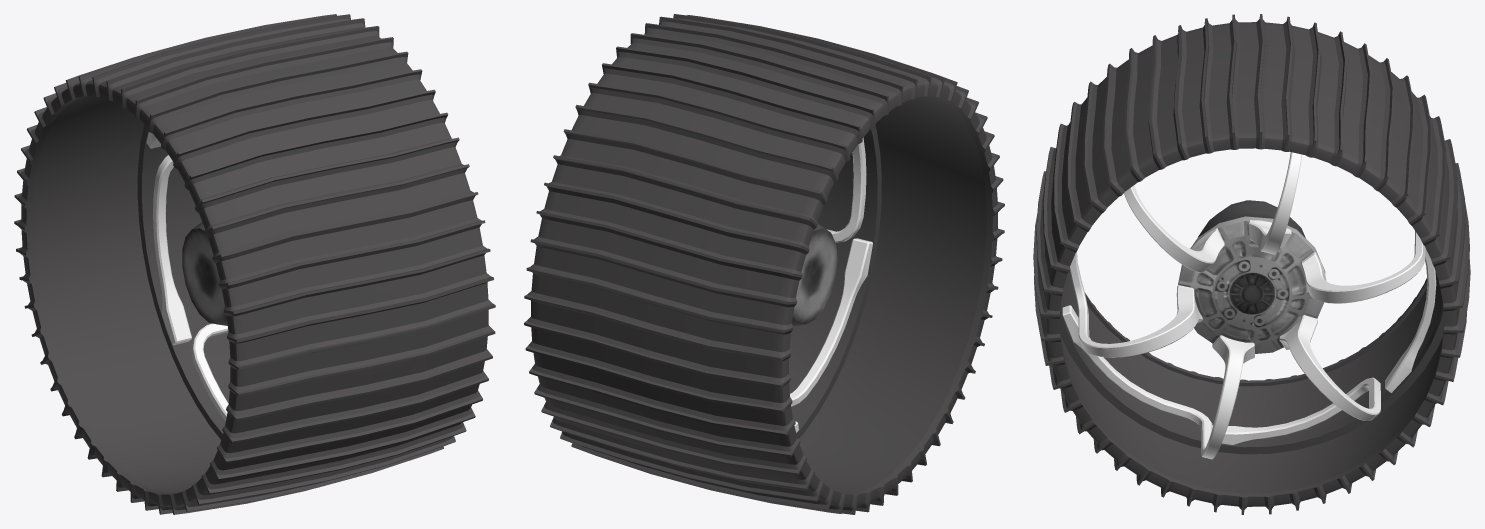
File: Perseverance_wheel.glb
3 renders of one model, left to right at view 1: azimuth 30°, elevation 25°; view 2: azimuth 150°, elevation 25°; view 3: azimuth 270°, elevation 25°, orthographic. The views are drawn at different scales.
Parts seen in each view (by area): view 1: Wheels_objs.001; view 2: Wheels_objs.001; view 3: Wheels_objs.001.
Boxes of the visible parts, x1,y1,x2,y2 form: Wheels_objs.001: (14,14,495,514); Wheels_objs.001: (524,14,1004,514); Wheels_objs.001: (1033,14,1470,514).
Size of the model in its own units: 0.3356 by 0.5254 by 0.5254.
Materials: 3 (1 with a texture image).
